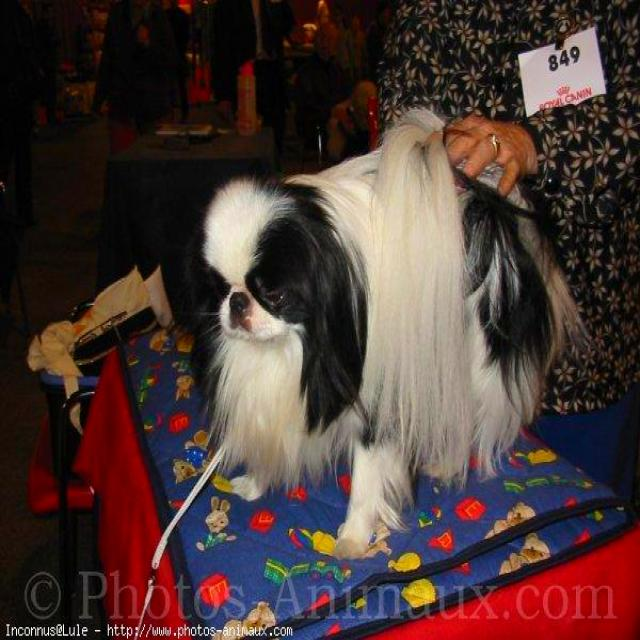husky: (192, 109, 588, 550)
